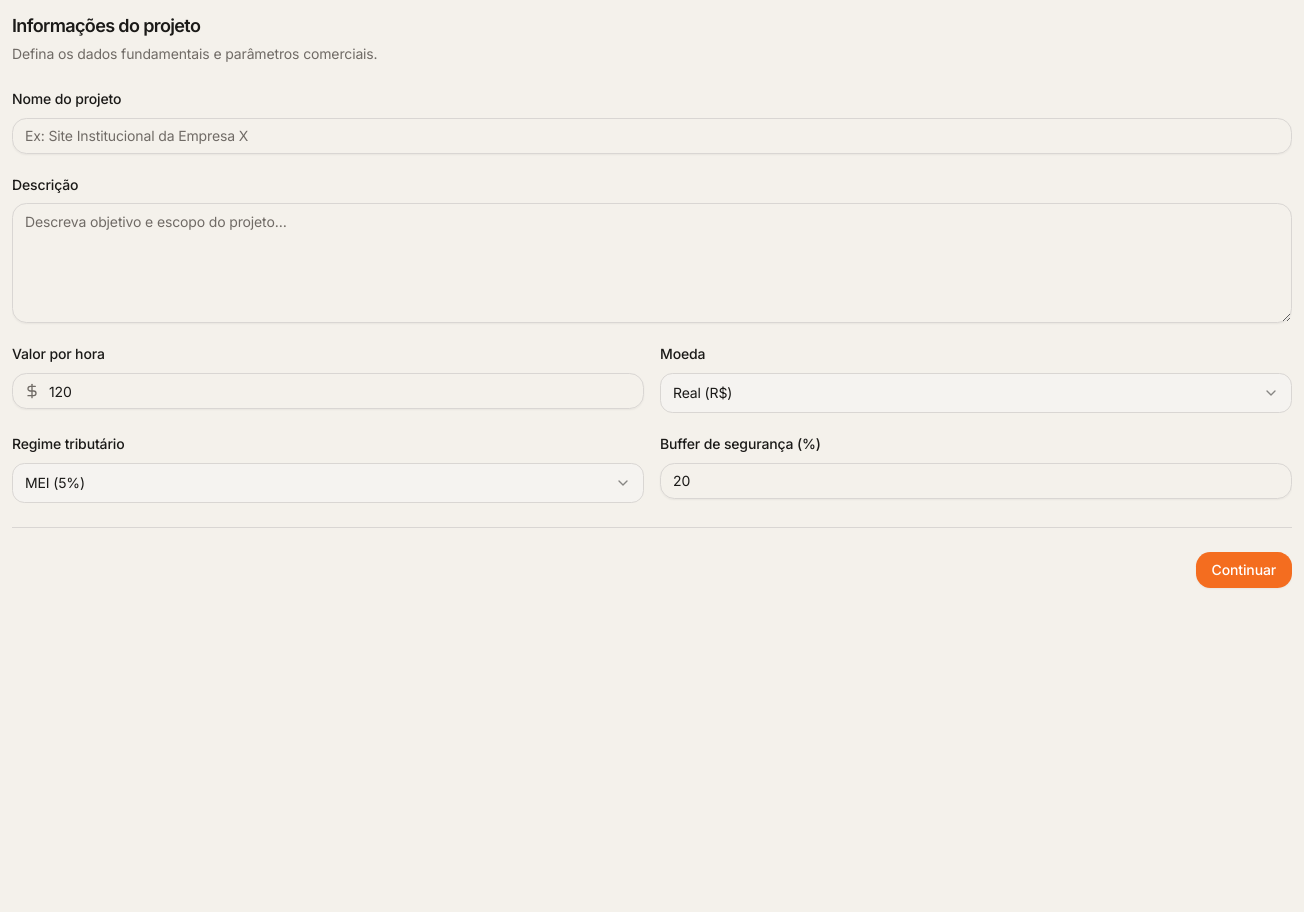
Test case: StepInfo wizard (frontend) › valida campos obrigatórios e bloqueia avanço
Click the button "Continuar": point(1244, 570) [1196,552,1292,588]
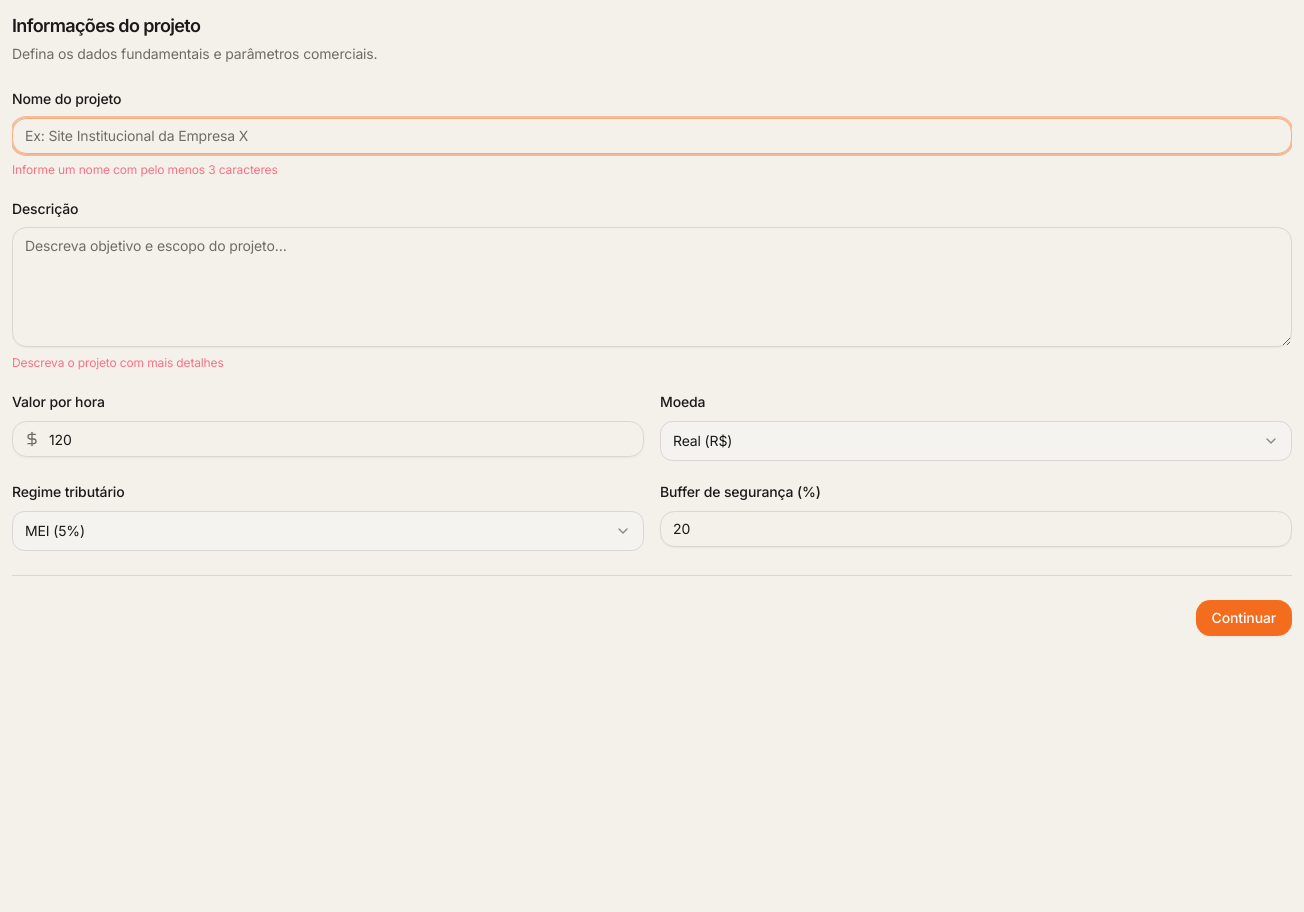
Expected: the text "Informe um nome com pelo menos 3 caracteres" is shown, [12,162,278,177]
